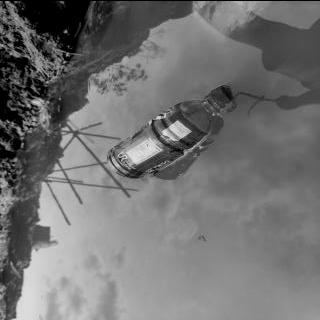bottle: (103, 83, 240, 178)
